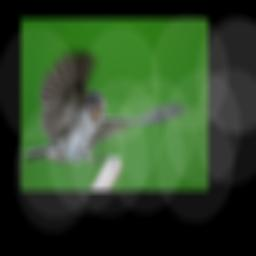Swallow: (24, 47, 187, 166)
